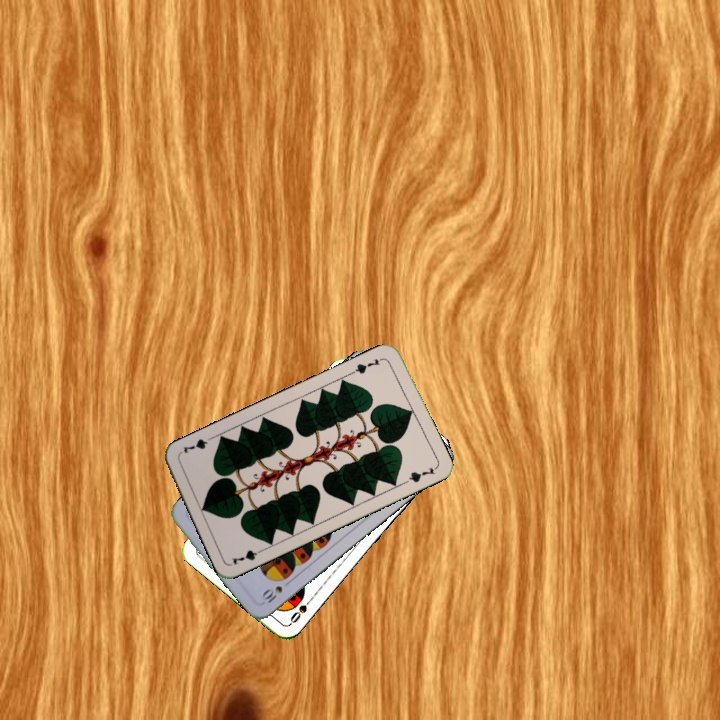G7: (228, 544, 267, 567), (348, 354, 386, 377)
S10: (257, 582, 285, 606)
SO: (286, 593, 316, 627)
